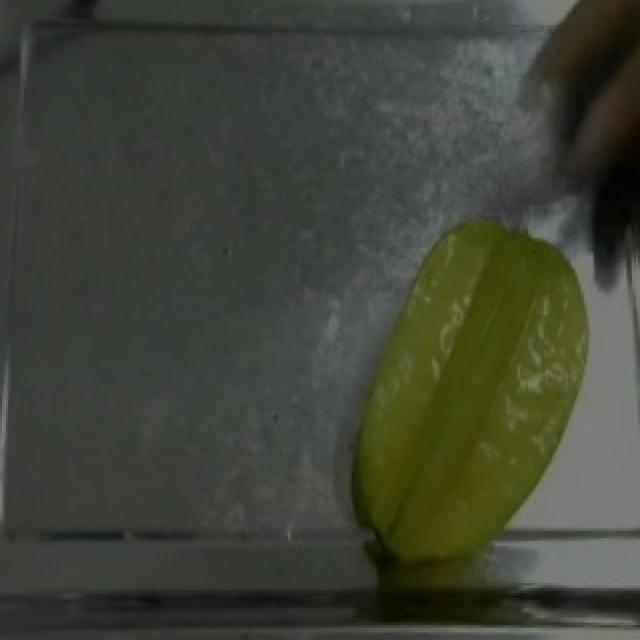fruit: (338, 201, 614, 585)
